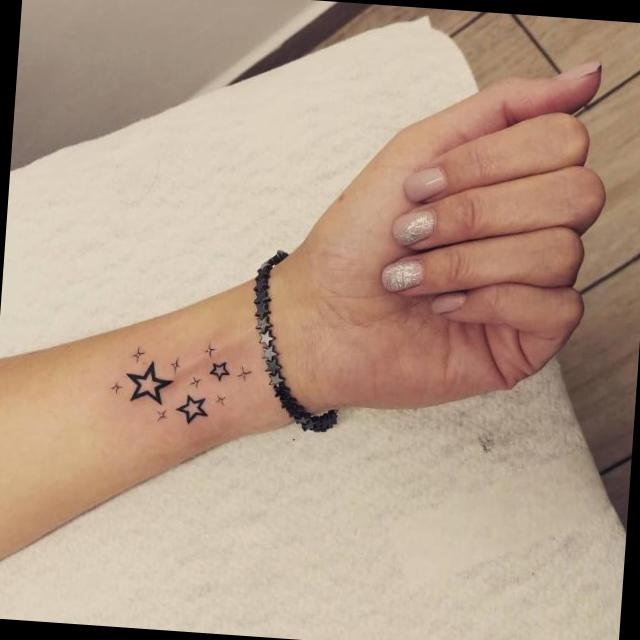Nail: (393, 209, 433, 244), (405, 166, 445, 201), (381, 259, 422, 290), (561, 60, 600, 75), (433, 293, 465, 311)
